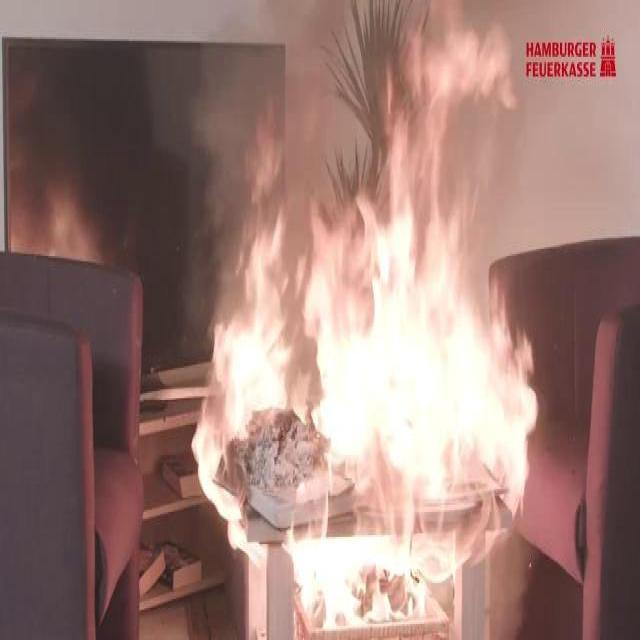Fire_Dangerous: (205, 153, 529, 640)
